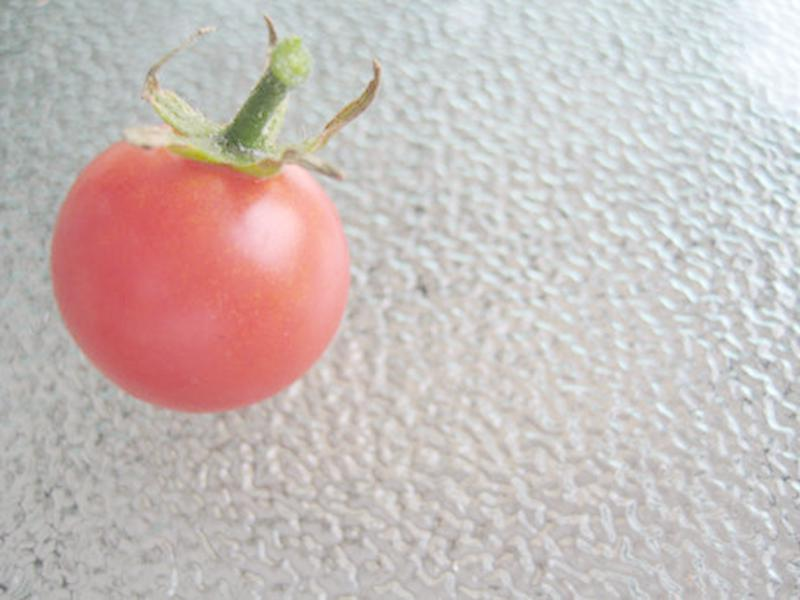Tomato: (52, 139, 354, 414)
